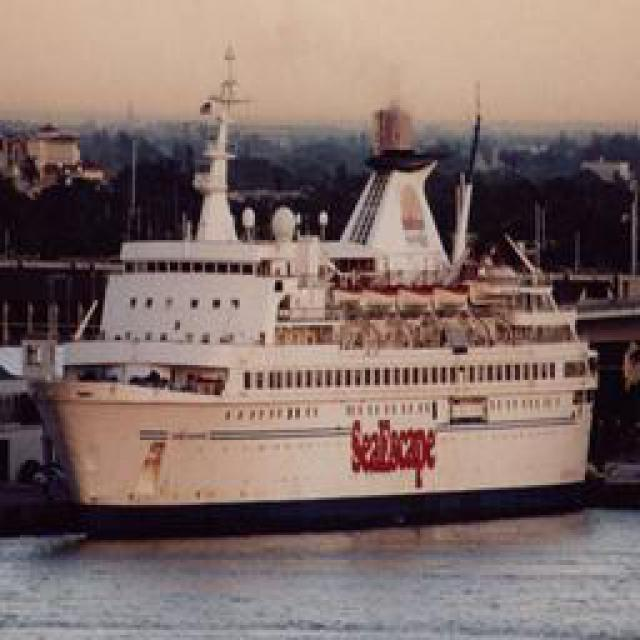Ship: (22, 160, 602, 520)
